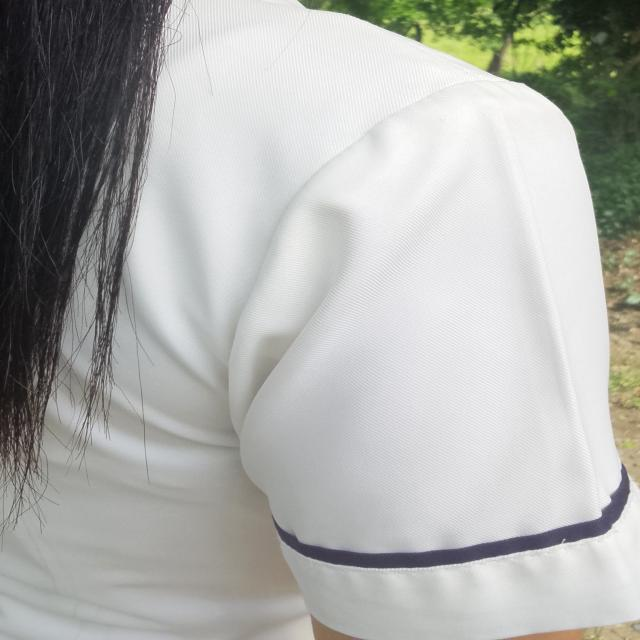education_female_uniform: (2, 5, 640, 624)
